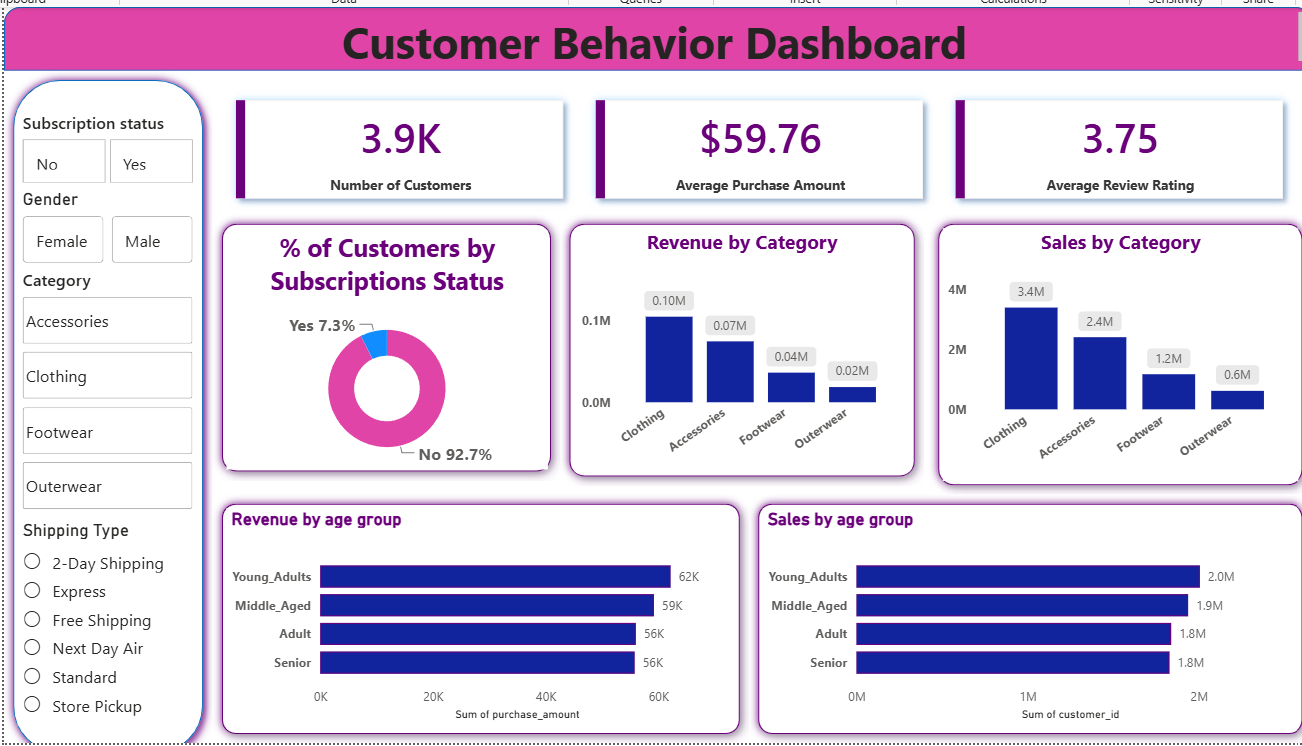

The page's visual inventory and layout, read from the dashboard file:
{"tool":"powerbi","page":{"name":"Customer Behavior Analysis","canvas":[1280,720],"ordinal":0},"visuals":[{"type":"cardVisual","fields":{"Data":["customer_behavior.Number of Customers","customer_behavior.Average Purchase Amount","customer_behavior.Average Review Rating"]},"box":[198.1,62.4,1082.2,154.1],"z":0},{"type":"shape","box":[0,0,1280.3,62.4],"z":1000},{"type":"textbox","box":[0,0,1280.3,62.4],"z":2000},{"type":"shape","box":[204.2,203,339.9,260.5],"z":3000},{"type":"donutChart","title":"% of Customers by Subscriptions Status","fields":{"Category":["customer_behavior.subscription_status"],"Y":["Sum(customer_behavior.customer_id)"]},"box":[217.7,218.9,314.3,233.6],"z":4000},{"type":"shape","box":[544.2,203,355.8,265.4],"z":5000},{"type":"shape","box":[904.9,203,375.4,273.9],"z":6000},{"type":"clusteredColumnChart","title":"Revenue by Category","fields":{"Y":["Sum(customer_behavior.purchase_amount)"],"Category":["customer_behavior.category"]},"box":[560.1,216.4,324.1,237.2],"z":7000},{"type":"clusteredColumnChart","title":"Sales by Category","fields":{"Y":["Sum(customer_behavior.customer_id)"],"Category":["customer_behavior.category"]},"box":[918.3,216.4,348.6,247.1],"z":8000},{"type":"shape","box":[0,62.4,203.6,676.8],"z":9000},{"type":"advancedSlicerVisual","title":"Subscription status","fields":{"Values":["customer_behavior.subscription_status"]},"box":[13.5,101.5,176.1,75.8],"z":10000},{"type":"advancedSlicerVisual","title":"Gender","fields":{"Values":["customer_behavior.gender"]},"box":[13.5,177.3,176.1,78.3],"z":11000},{"type":"advancedSlicerVisual","title":"Category","fields":{"Values":["customer_behavior.category"]},"box":[13.5,255.6,176.1,244.6],"z":12000},{"type":"listSlicer","title":"Shipping Type","fields":{"Values":["customer_behavior.shipping_type"]},"box":[13.5,501,176.1,201.8],"z":13000},{"type":"shape","box":[204.2,476.9,524.6,243.3],"z":14000},{"type":"clusteredBarChart","title":"Revenue by age group","fields":{"Y":["Sum(customer_behavior.purchase_amount)"],"Category":["customer_behavior.age_group"]},"box":[217.7,490.4,492.8,212.8],"z":15000},{"type":"shape","box":[728.8,476.9,551.5,243.3],"z":16000},{"type":"clusteredBarChart","title":"Sales by age group","fields":{"Y":["Sum(customer_behavior.customer_id)"],"Category":["customer_behavior.age_group"]},"box":[742.3,490.4,524.6,212.8],"z":17000}]}

Visuals, with their boxes in screenshot pixels (x1, y1, x2, y2):
cardVisual - customer_behavior.Number of Customers x customer_behavior.Average Purchase Amount: l=199, t=68, r=1301, b=229
shape: l=0, t=3, r=1301, b=68
textbox: l=0, t=3, r=1301, b=68
shape: l=206, t=215, r=559, b=485
"% of Customers by Subscriptions Status" donutChart: l=220, t=231, r=546, b=474
shape: l=559, t=215, r=929, b=491
shape: l=934, t=215, r=1301, b=499
"Revenue by Category" clusteredColumnChart: l=576, t=228, r=913, b=475
"Sales by Category" clusteredColumnChart: l=948, t=228, r=1301, b=485
shape: l=0, t=68, r=205, b=745
"Subscription status" advancedSlicerVisual: l=7, t=109, r=190, b=188
"Gender" advancedSlicerVisual: l=7, t=188, r=190, b=269
"Category" advancedSlicerVisual: l=7, t=269, r=190, b=524
"Shipping Type" listSlicer: l=7, t=524, r=190, b=734
shape: l=206, t=499, r=751, b=745
"Revenue by age group" clusteredBarChart: l=220, t=513, r=732, b=735
shape: l=751, t=499, r=1301, b=745
"Sales by age group" clusteredBarChart: l=765, t=513, r=1301, b=735
